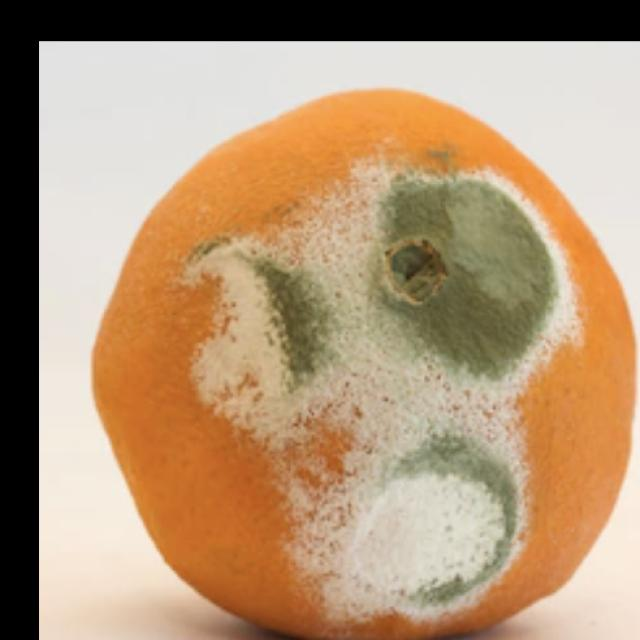sedikit_busuk: (92, 79, 640, 639)
